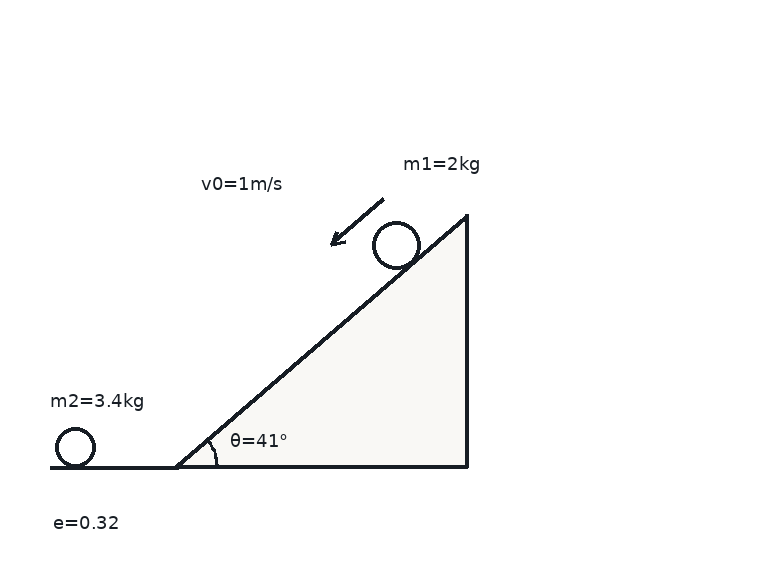ball: (370, 219, 422, 271), (53, 425, 97, 469)
ramp: (175, 214, 468, 469)
